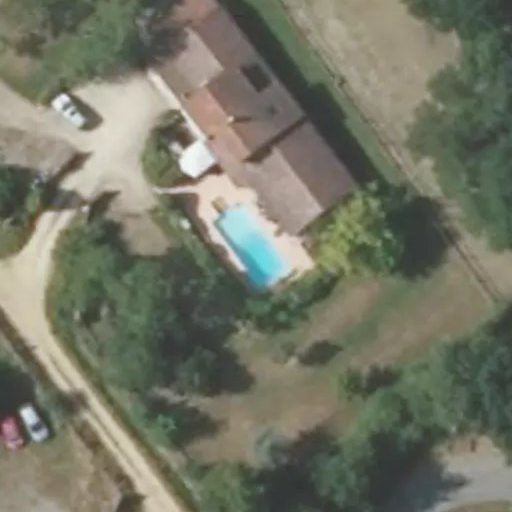pool: (205, 210, 296, 267)
